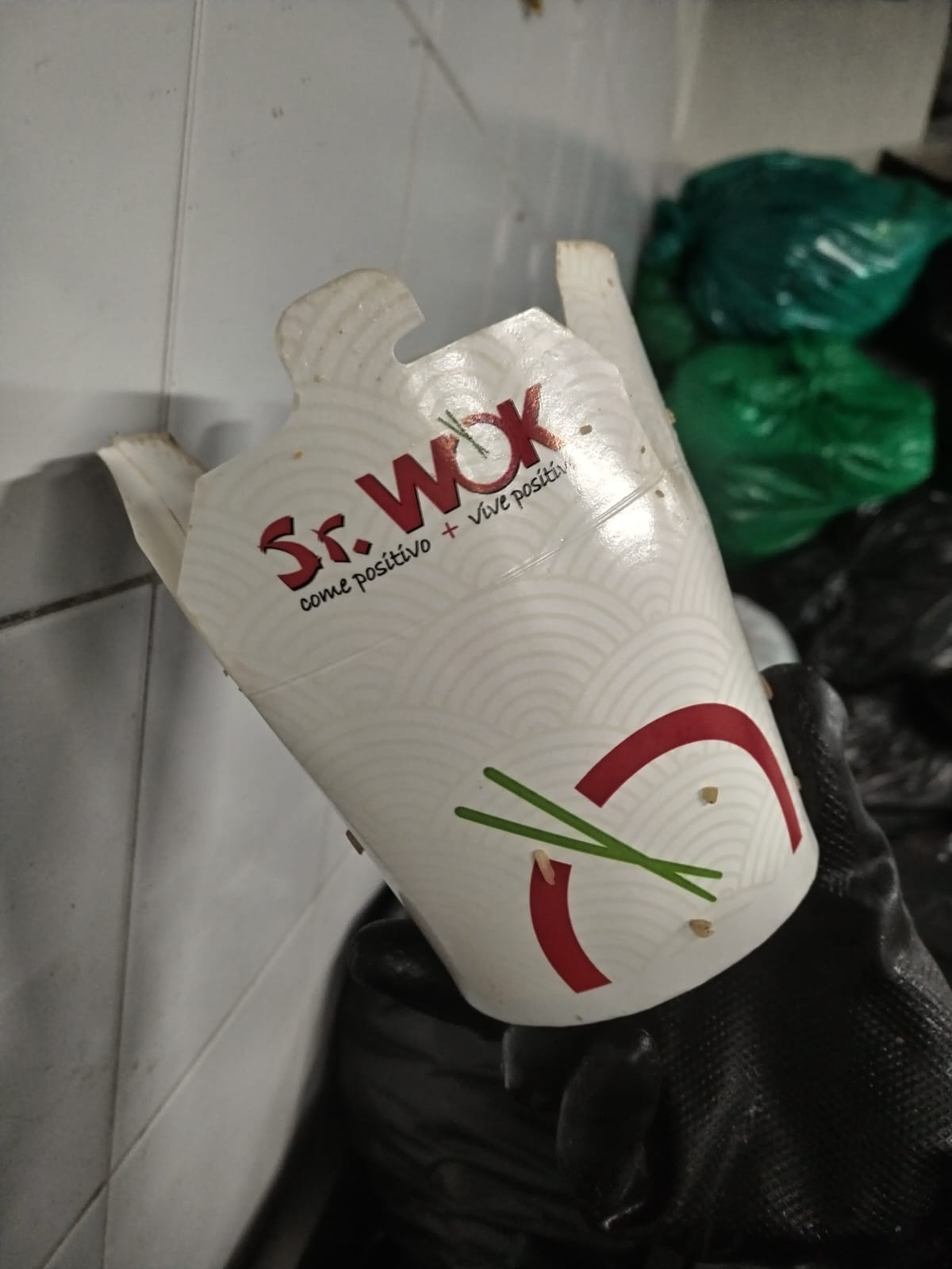Carton: (97, 239, 819, 1025)
